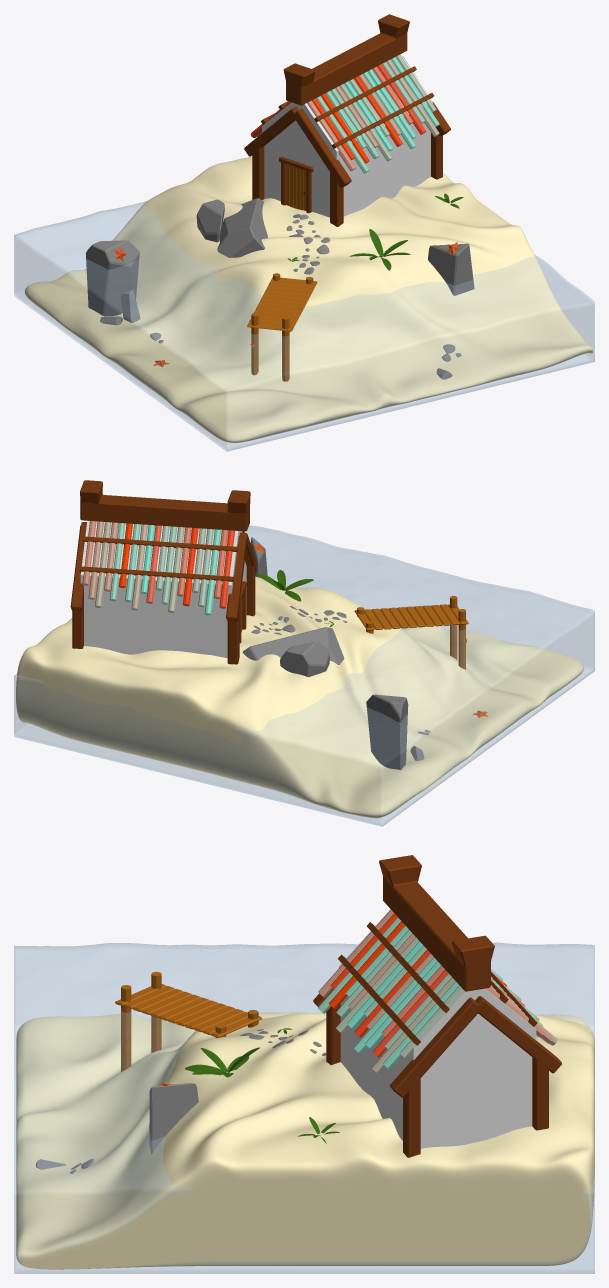
File: island.glb
The picture shows the model from 3 angles, top to bottom: view 1: azimuth 30°, elevation 25°; view 2: azimuth 150°, elevation 25°; view 3: azimuth 270°, elevation 25°; orthographic projection. The views are drawn at different scales.
Parts seen in each view (by area): view 1: Cube.001, Cube, Cube.010, Cylinder.002, Cube.012, Cube.011, Cube.007, Cube.002, Cube.003, Cube.006, Cube.018, Cube.004 (+1 smaller); view 2: Cube.001, Cube, Cube.010, Cylinder.002, Cube.012, Cube.011, Cube.007, Cube.002, Cube.018, Cube.003, Cube.004; view 3: Cube.001, Cube, Cube.010, Cylinder.002, Cube.011, Cube.012, Cube.002, Cube.006, Cube.018, Cylinder.001, Cylinder.
Boxes of the visible parts, left/top/right/bottom form: Cube.001: left=24, top=157, right=592, bottom=442; Cube: left=14, top=201, right=594, bottom=451; Cube.010: left=262, top=54, right=433, bottom=217; Cylinder.002: left=250, top=54, right=439, bottom=173; Cube.012: left=283, top=14, right=409, bottom=105; Cube.011: left=244, top=56, right=450, bottom=226; Cube.007: left=85, top=240, right=139, bottom=316; Cube.002: left=247, top=277, right=317, bottom=331; Cube.003: left=217, top=198, right=267, bottom=257; Cube.006: left=428, top=243, right=474, bottom=295; Cube.018: left=261, top=66, right=434, bottom=148; Cube.004: left=196, top=199, right=224, bottom=242; Cube.001: left=16, top=576, right=584, bottom=818; Cube: left=14, top=525, right=594, bottom=826; Cube.010: left=80, top=520, right=246, bottom=657; Cylinder.002: left=82, top=521, right=235, bottom=615; Cube.012: left=80, top=480, right=250, bottom=531; Cube.011: left=70, top=522, right=256, bottom=664; Cube.007: left=366, top=694, right=408, bottom=770; Cube.002: left=354, top=604, right=468, bottom=630; Cube.018: left=79, top=531, right=244, bottom=581; Cube.003: left=242, top=627, right=344, bottom=664; Cube.004: left=280, top=641, right=329, bottom=676; Cube.001: left=16, top=1012, right=594, bottom=1269; Cube: left=14, top=943, right=594, bottom=1273; Cube.010: left=339, top=909, right=536, bottom=1148; Cylinder.002: left=317, top=910, right=557, bottom=1073; Cube.011: left=313, top=989, right=561, bottom=1157; Cube.012: left=379, top=855, right=494, bottom=991; Cube.002: left=115, top=984, right=261, bottom=1037; Cube.006: left=149, top=1083, right=198, bottom=1154; Cube.018: left=338, top=922, right=537, bottom=1045; Cylinder.001: left=121, top=985, right=131, bottom=1071; Cylinder: left=151, top=971, right=161, bottom=1052.
Size of the model in its own units: 2 by 1.24 by 2.
Materials: 10 (1 with a texture image).
